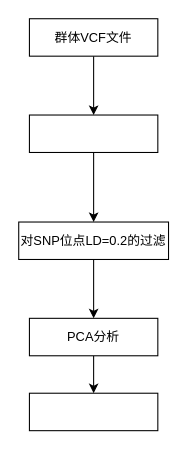
Some shapes in this 187 by 449 pixel diagram are drawn without their labels. Each missing label, with the box of its shape:
绘图: (28, 392, 158, 431)
转换成gds文件: (28, 114, 158, 152)
